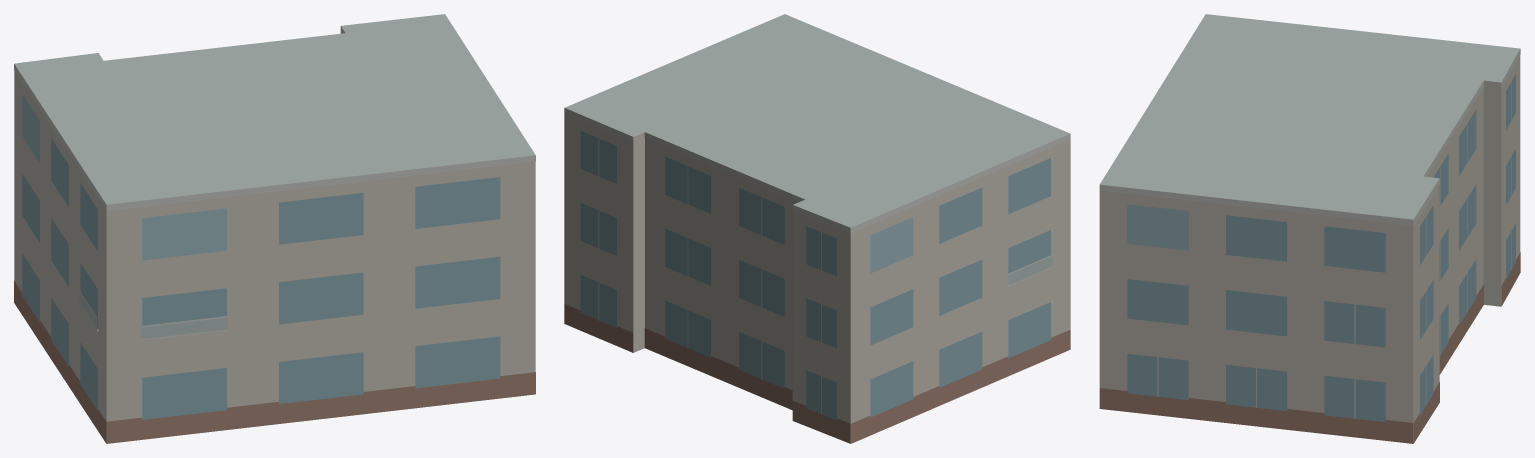
The model's file is survey-upis-32830362.glb.
The picture shows the model from 3 angles, left to right: view 1: azimuth 30°, elevation 25°; view 2: azimuth 150°, elevation 25°; view 3: azimuth 270°, elevation 25°; orthographic projection. The views are drawn at different scales.
Parts seen in each view (by area): view 1: survey-upis-32830362.tmp; view 2: survey-upis-32830362.tmp; view 3: survey-upis-32830362.tmp.
Boxes of the visible parts, x1,y1,x2,y2 form: survey-upis-32830362.tmp: [14, 14, 535, 443]; survey-upis-32830362.tmp: [564, 14, 1070, 443]; survey-upis-32830362.tmp: [1099, 14, 1520, 443].
Size of the model in its own units: 18 by 9.15 by 15.57.
